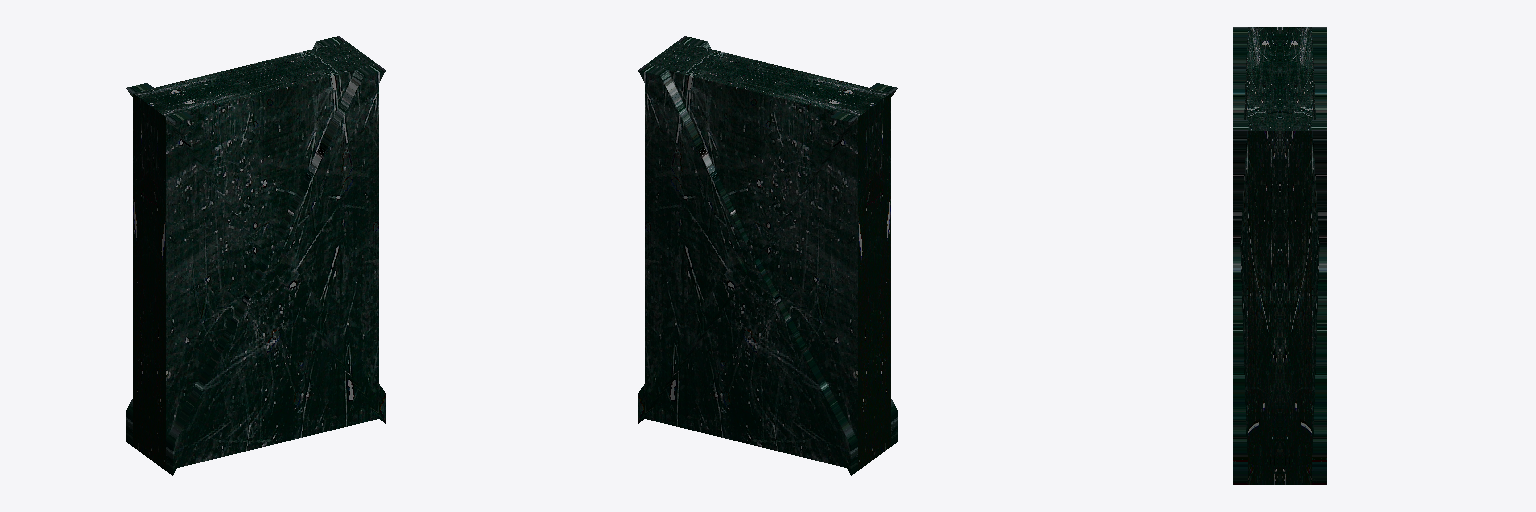
The picture shows the model from 3 angles: view 1: azimuth 30°, elevation 25°; view 2: azimuth 150°, elevation 25°; view 3: azimuth 270°, elevation 25°; orthographic projection.
Visible parts, largest first — view 1: blocked_door1:pCube1 group1; view 2: blocked_door1:pCube1 group1; view 3: blocked_door1:pCube1 group1.
Boxes of the visible parts, box(x1,y1,x2,y2) form: blocked_door1:pCube1 group1: box(126, 36, 385, 475); blocked_door1:pCube1 group1: box(638, 36, 897, 475); blocked_door1:pCube1 group1: box(1233, 27, 1326, 484).
Bounding box in the file's own units: 1.95 × 3.09 × 0.7465.
Materials: 1 (1 with a texture image).